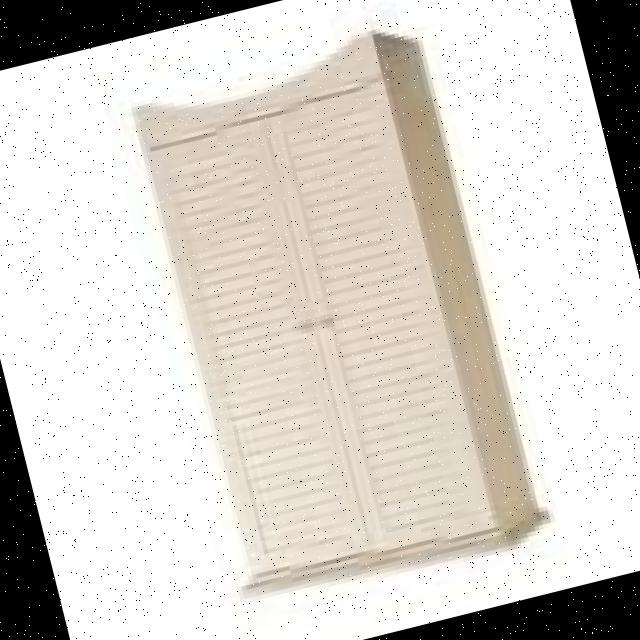Closet: (111, 12, 568, 628)
